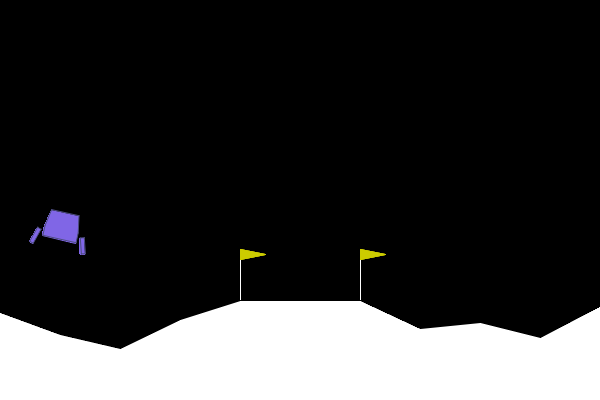lander: (27, 204, 95, 257)
